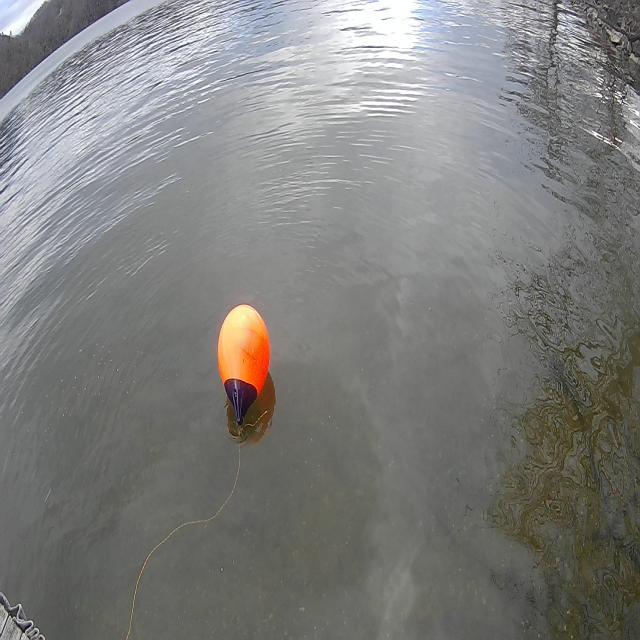Buoy: (215, 297, 272, 431)
